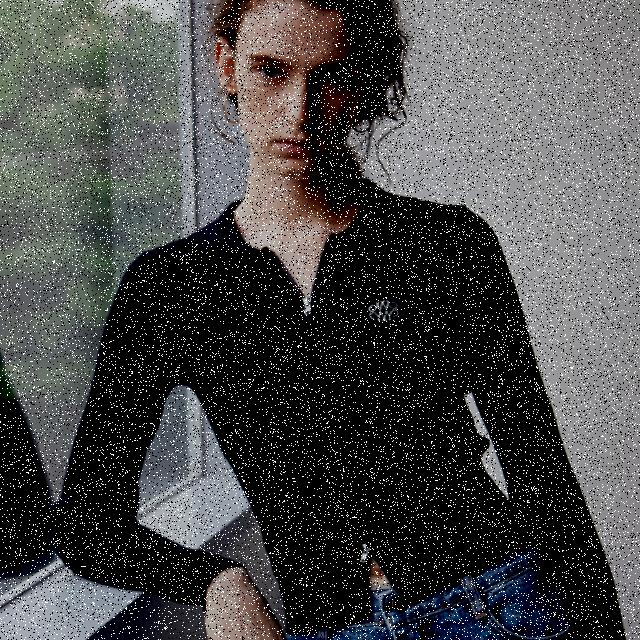dress: (58, 192, 622, 640)
